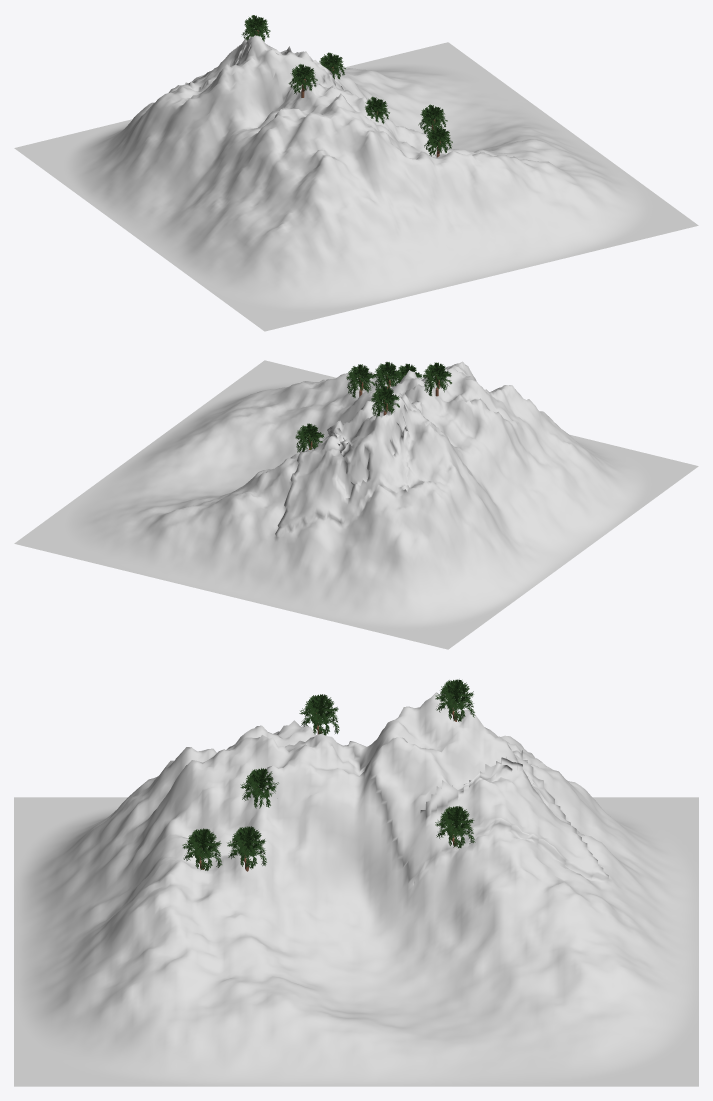
Rendered from land3.fbx.
The picture shows the model from 3 angles, top to bottom: view 1: azimuth 30°, elevation 25°; view 2: azimuth 150°, elevation 25°; view 3: azimuth 270°, elevation 25°; orthographic projection. The views are drawn at different scales.
Parts seen in each view (by area): view 1: Landscape, leaves.005, leaves.004, leaves.003, leaves.001; view 2: Landscape, leaves.005, leaves.003, leaves.001, leaves.002, leaves.004; view 3: Landscape, leaves.003, leaves.002, leaves.005, leaves.001, leaves.004, leaves.006.
Boxes of the visible parts, x1,y1,x2,y2 form: Landscape: [14, 35, 698, 331]; leaves.005: [288, 64, 317, 97]; leaves.004: [424, 126, 452, 157]; leaves.003: [418, 104, 447, 133]; leaves.001: [241, 15, 270, 41]; Landscape: [14, 360, 698, 649]; leaves.005: [423, 362, 451, 396]; leaves.003: [346, 364, 375, 397]; leaves.001: [371, 386, 399, 417]; leaves.002: [295, 423, 324, 452]; leaves.004: [373, 362, 398, 389]; Landscape: [14, 692, 698, 1086]; leaves.003: [227, 826, 266, 871]; leaves.002: [435, 806, 475, 848]; leaves.005: [299, 694, 339, 735]; leaves.001: [435, 679, 475, 721]; leaves.004: [182, 828, 222, 870]; leaves.006: [240, 768, 278, 808].
Size of the model in its own units: 718 by 254 by 718.
